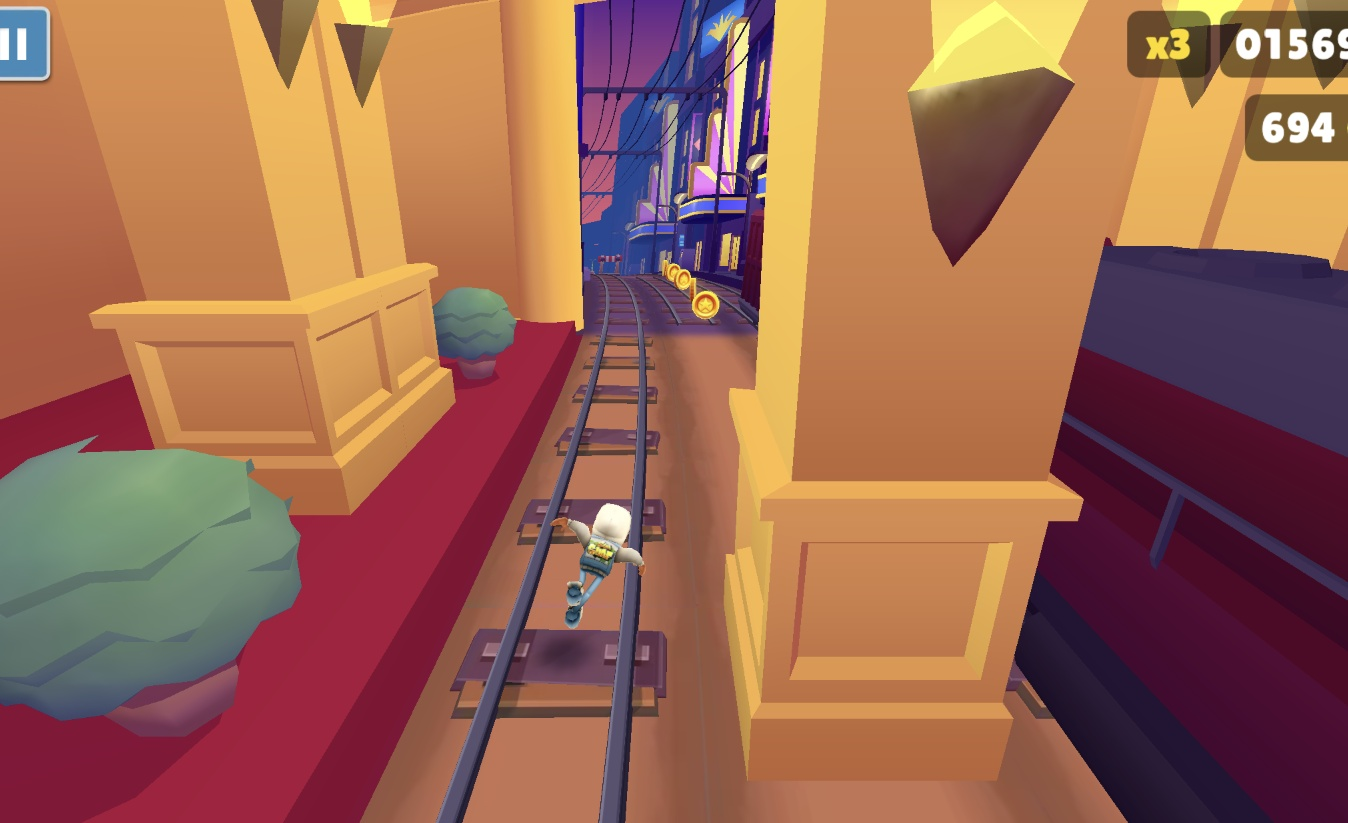ground_barrier: (593, 253, 623, 277)
pillar: (718, 0, 1099, 786)
train: (1028, 247, 1348, 823)
